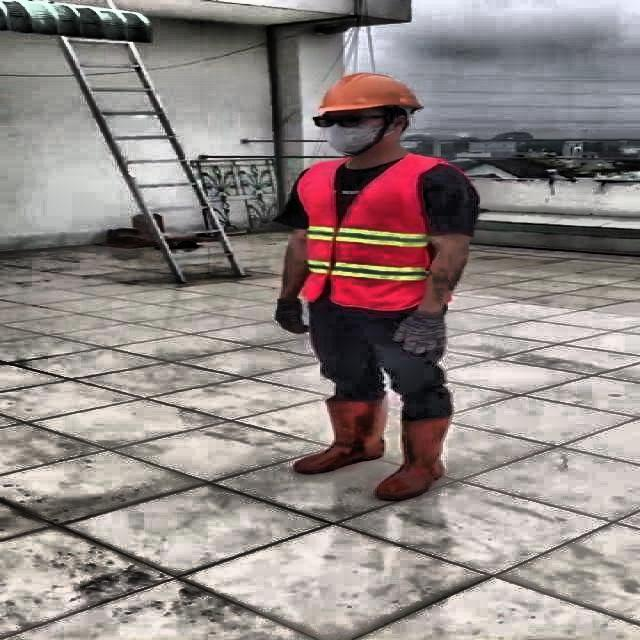safety_helmet: (308, 70, 427, 114)
safety_jacket: (292, 158, 466, 312)
